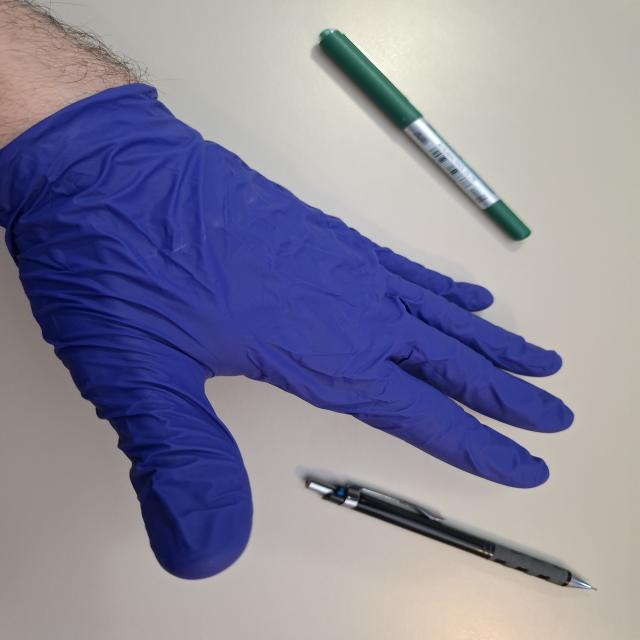glove_on: (0, 77, 579, 582)
